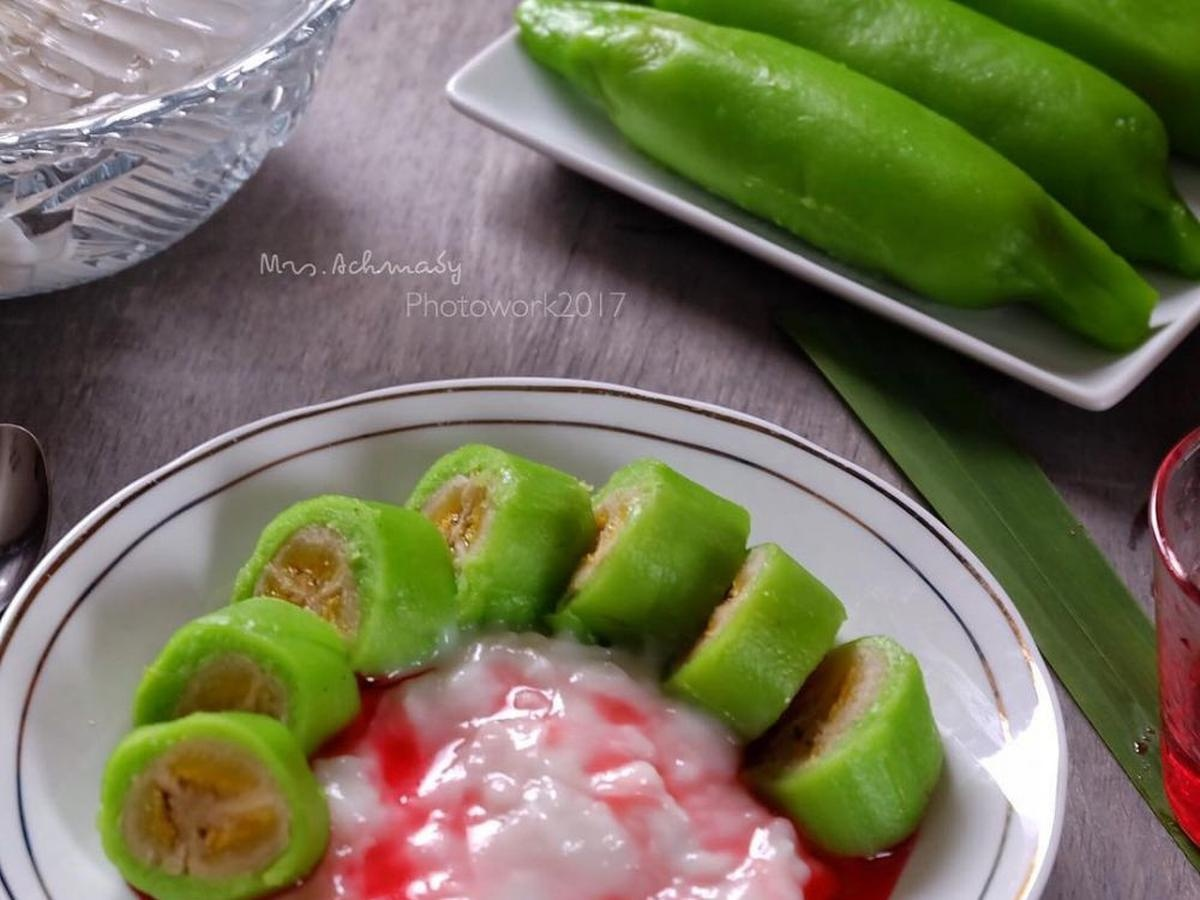pisang_ijo: (88, 714, 350, 895)
